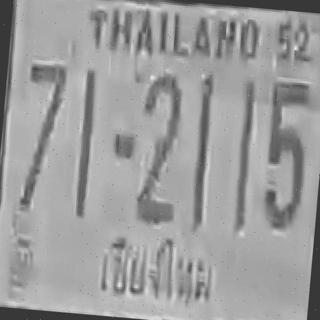N01: (185, 65, 220, 231), (229, 72, 260, 238)
N02: (130, 69, 190, 231), (66, 58, 112, 224)
N05: (254, 74, 318, 239)
N07: (14, 54, 76, 218)
P11: (83, 227, 226, 312)
